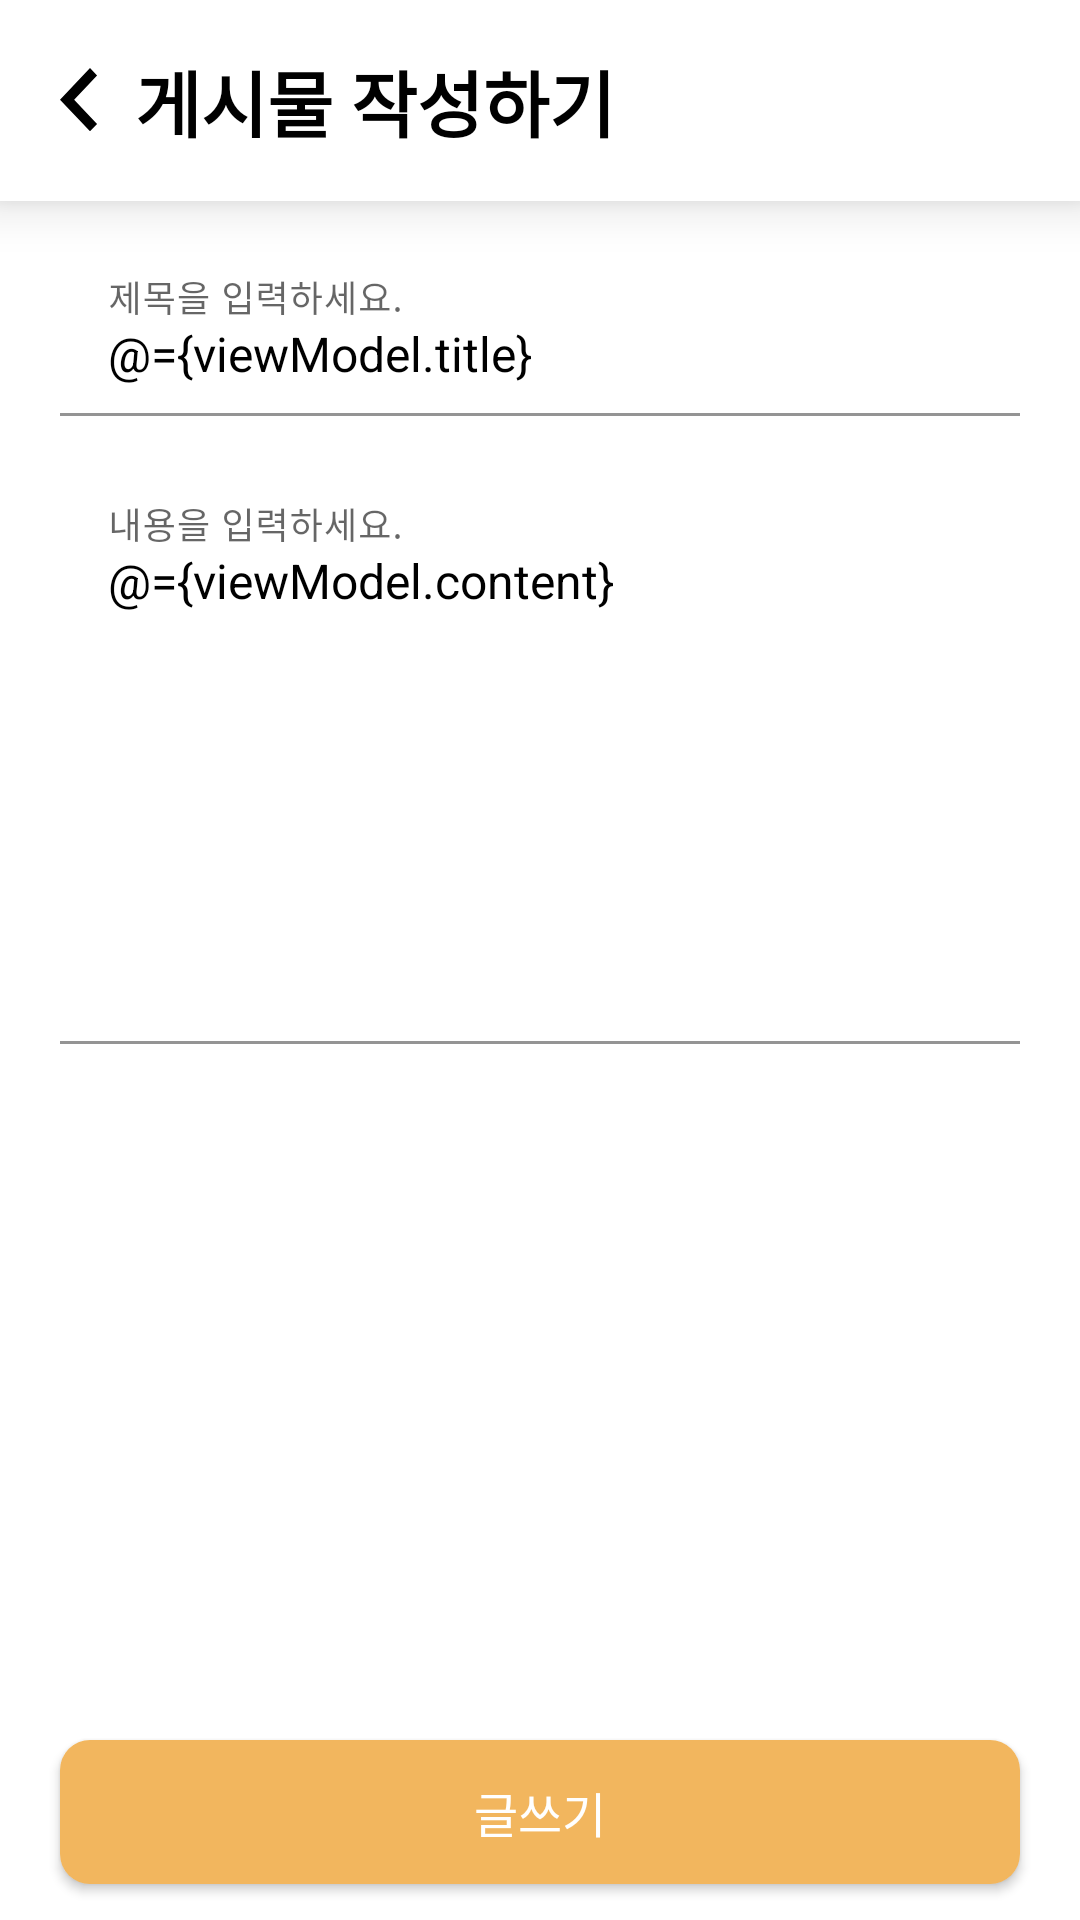

Where to tap for icons on this 1080x1920 app screen, as (x,y):
arrow left: (78,99)
